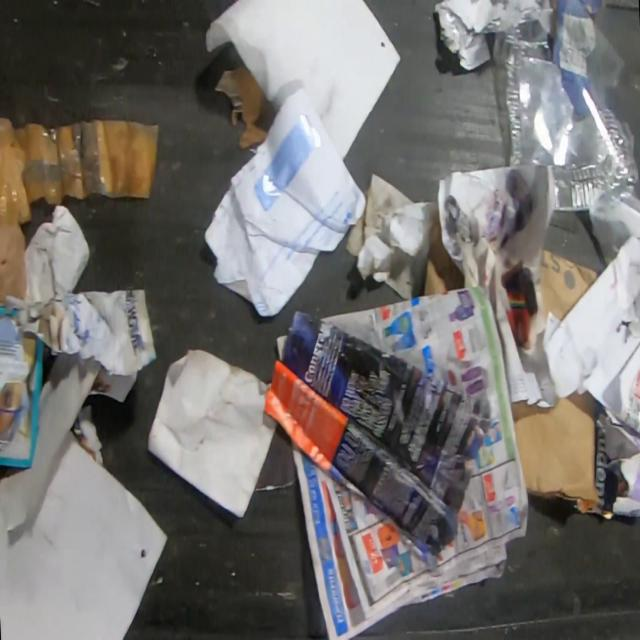cardboard: (511, 390, 601, 514), (214, 65, 275, 152), (539, 248, 599, 323), (421, 210, 465, 296)
rigid_plastic: (495, 25, 635, 212)
soft_plastic: (562, 0, 639, 202), (13, 117, 162, 207), (0, 118, 33, 306)
